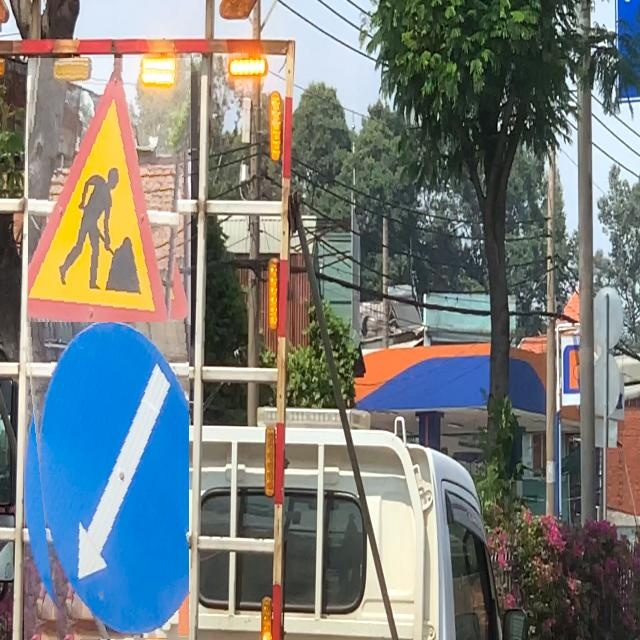bien_nguy_hiem: (24, 322, 189, 640), (28, 58, 191, 325)
